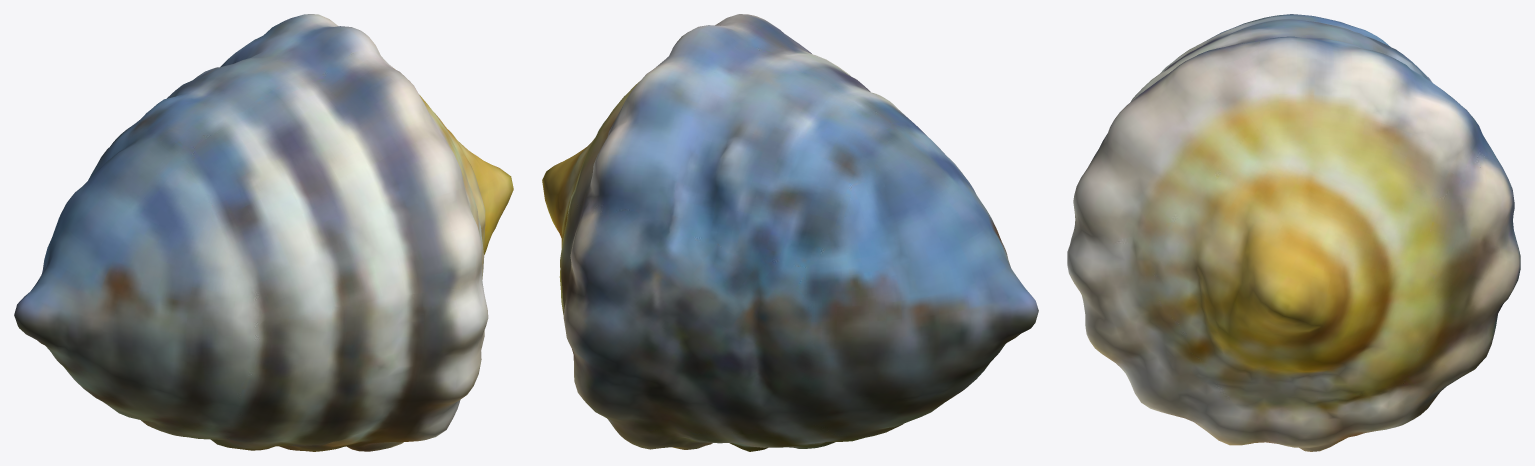
File: glb-3.glb
The picture shows the model from 3 angles, left to right: view 1: azimuth 30°, elevation 25°; view 2: azimuth 150°, elevation 25°; view 3: azimuth 270°, elevation 25°; orthographic projection.
Visible parts, largest first — view 1: Mesh1; view 2: Mesh1; view 3: Mesh1.
Part boxes in pixels (left/top/right/bottom): Mesh1: left=14, top=14, right=513, bottom=451; Mesh1: left=542, top=14, right=1038, bottom=451; Mesh1: left=1067, top=14, right=1520, bottom=451.
Size of the model in its own units: 1.2 by 0.9319 by 0.9474.
Materials: 1 (1 with a texture image).
